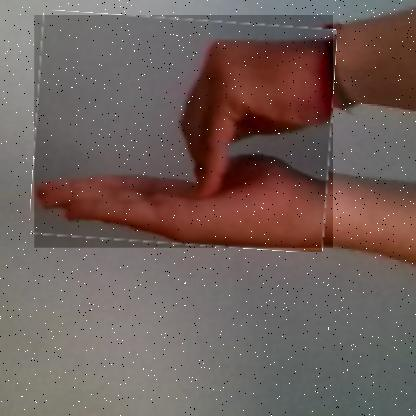Z: (33, 15, 333, 249)
